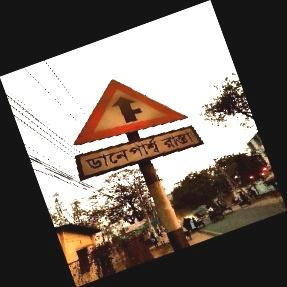Side-road-right: (72, 79, 199, 183)
